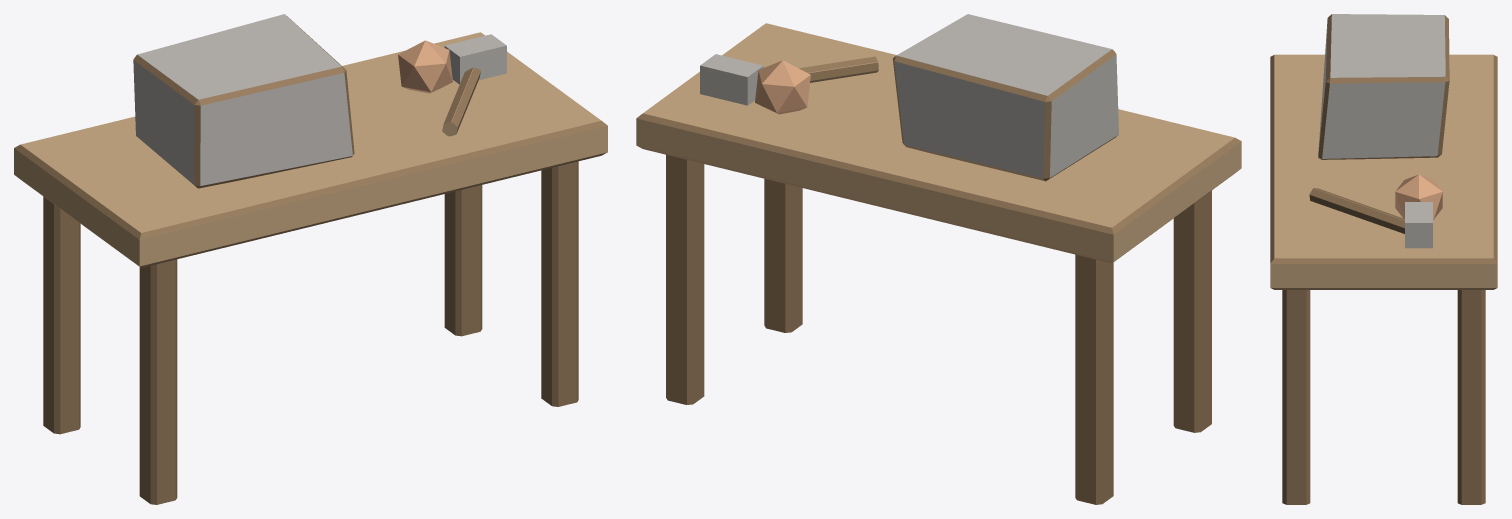
The model's file is mason_bench_working.glb.
3 renders of one model, left to right at view 1: azimuth 30°, elevation 25°; view 2: azimuth 150°, elevation 25°; view 3: azimuth 270°, elevation 25°, orthographic. The views are drawn at different scales.
Visible parts, largest first — view 1: mason_bench_working; view 2: mason_bench_working; view 3: mason_bench_working.
Part boxes in pixels (left/top/right/bottom): mason_bench_working: left=14, top=14, right=607, bottom=504; mason_bench_working: left=636, top=14, right=1241, bottom=504; mason_bench_working: left=1270, top=14, right=1497, bottom=504.
Bounding box in the file's own units: 1.4 × 1.06 × 0.65.
